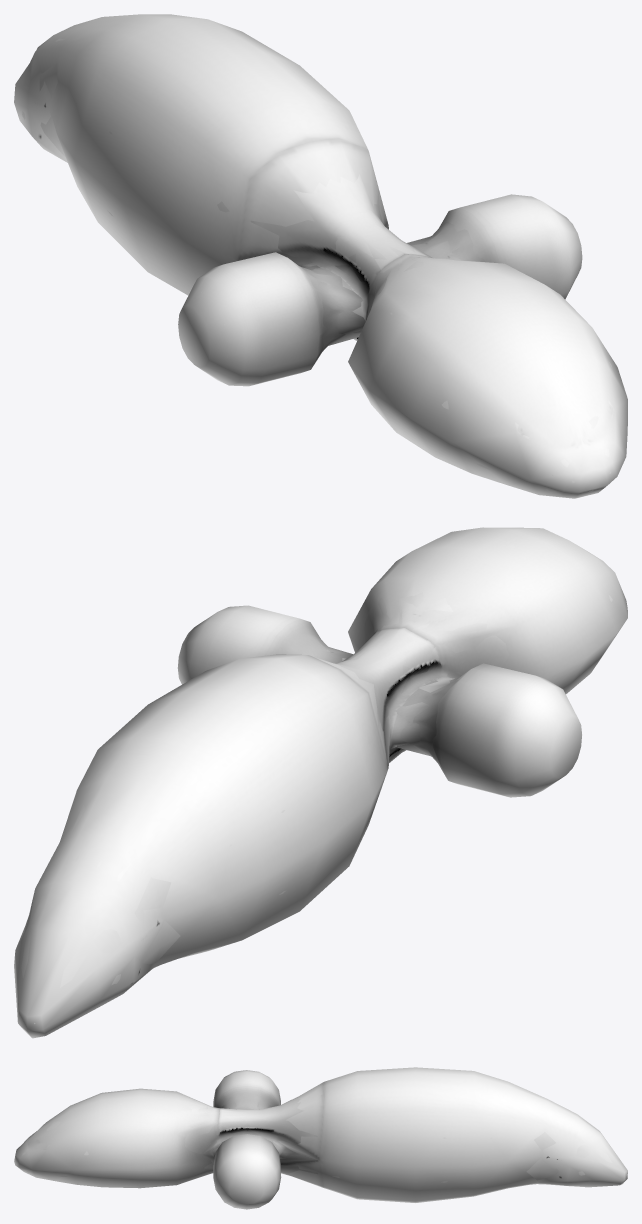
File: ship_2_LIGHTWAVE.obj
The picture shows the model from 3 angles, top to bottom: view 1: azimuth 30°, elevation 25°; view 2: azimuth 150°, elevation 25°; view 3: azimuth 270°, elevation 25°; orthographic projection. The views are drawn at different scales.
Parts seen in each view (by area): view 1: Cube.001_Cube.007, Cube.000; view 2: Cube.001_Cube.007, Cube.000; view 3: Cube.001_Cube.007, Cube.000.
Boxes of the visible parts, x1,y1,x2,y2 form: Cube.001_Cube.007: [14, 14, 627, 498]; Cube.000: [22, 22, 617, 493]; Cube.001_Cube.007: [14, 527, 627, 1038]; Cube.000: [21, 537, 612, 1033]; Cube.001_Cube.007: [14, 1067, 627, 1209]; Cube.000: [17, 1091, 626, 1189].
Bounding box in the file's own units: 9.46 × 5.65 × 25.03.
Materials: 13 (13 with a texture image).
